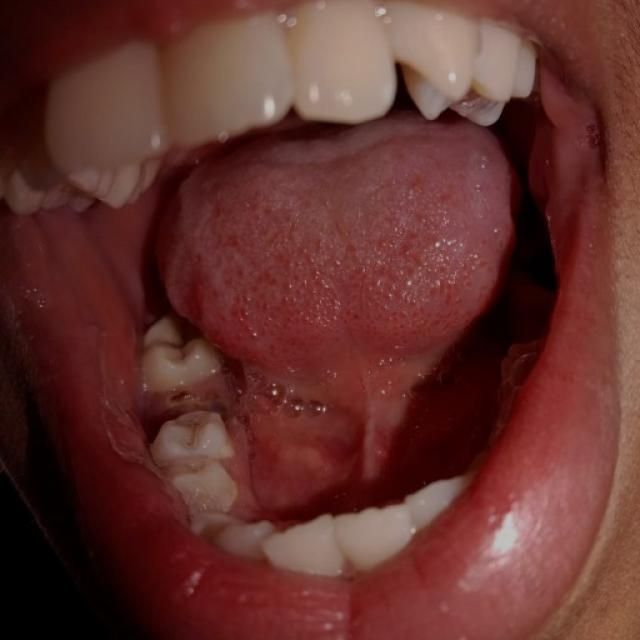processing_area: (22, 120, 513, 519)
